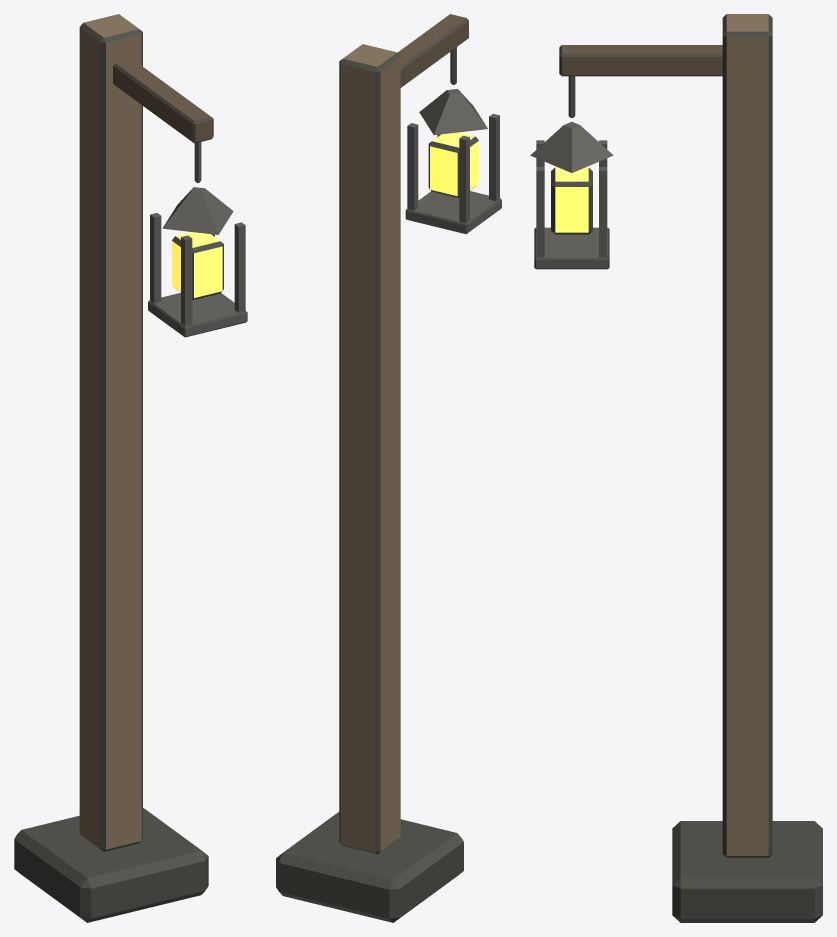
The model's file is lantern_post.glb.
3 renders of one model, left to right at view 1: azimuth 30°, elevation 25°; view 2: azimuth 150°, elevation 25°; view 3: azimuth 270°, elevation 25°, orthographic. The views are drawn at different scales.
Visible parts, largest first — view 1: Lantern_Post; view 2: Lantern_Post; view 3: Lantern_Post.
Boxes of the visible parts, x1,y1,x2,y2 form: Lantern_Post: [14, 14, 247, 922]; Lantern_Post: [276, 14, 501, 922]; Lantern_Post: [530, 14, 822, 922].
Size of the model in its own units: 0.36 by 2.3 by 0.7.
